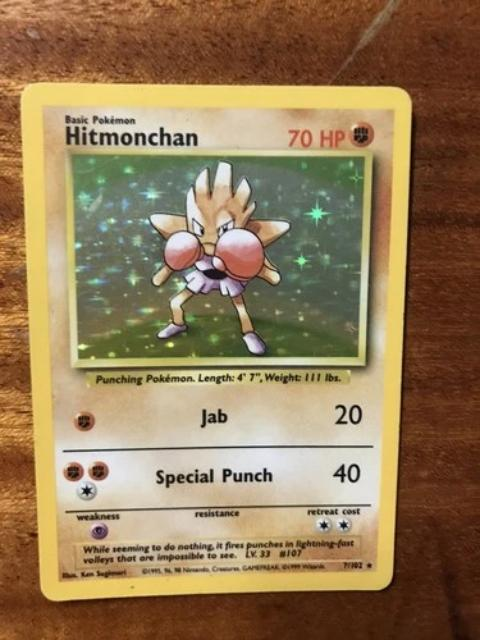Card: (18, 76, 415, 604)
Name: (59, 119, 202, 151)
